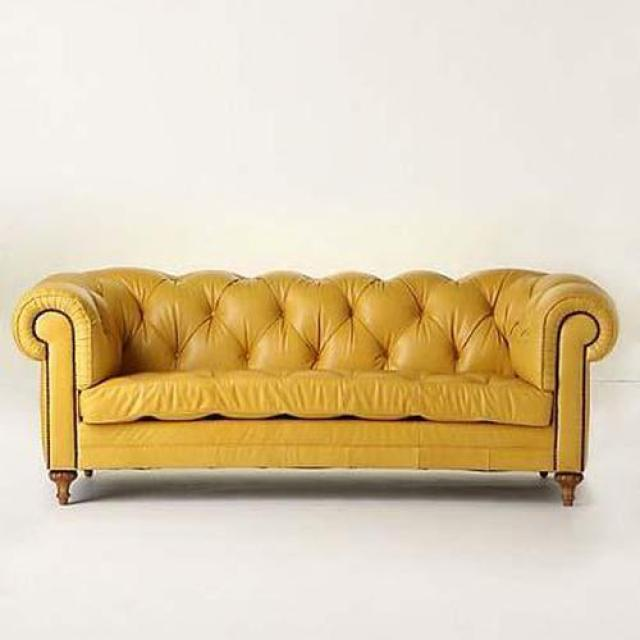sofa: (13, 269, 621, 508)
